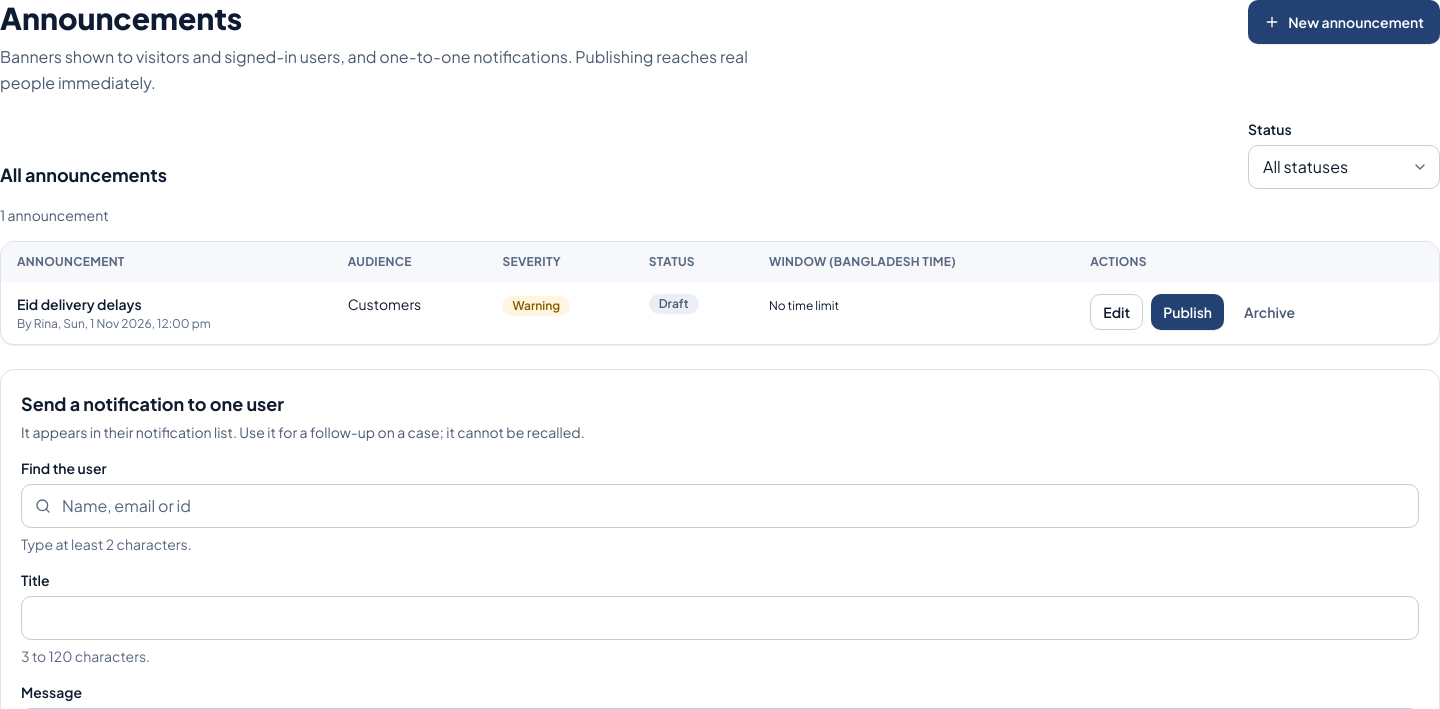
it: admin announcements › keeps the publish dialog open and shows the server message on failure
This screenshot has width=1440, height=709.
Click the button with aria-label "Publish Eid delivery delays" at point(1188, 312), box [1151,294,1224,330]
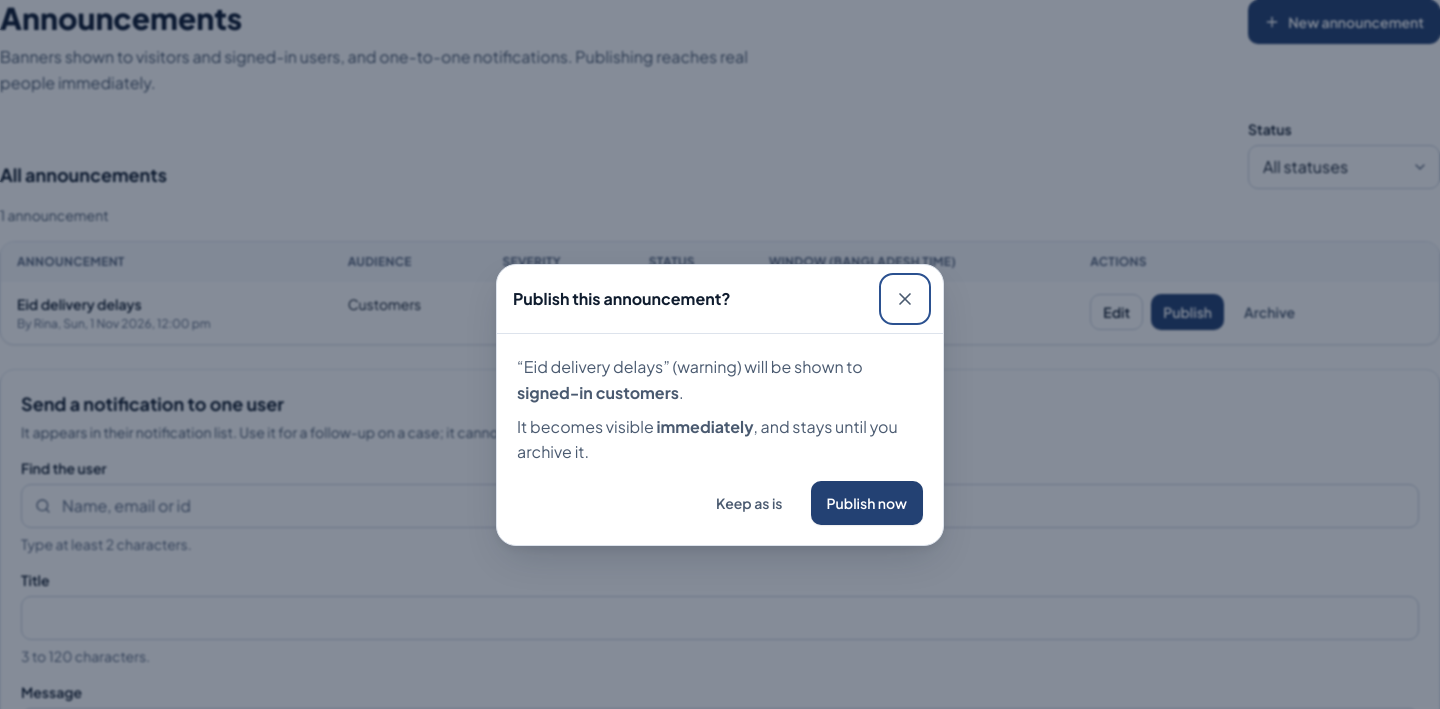
Click the button "Publish now" at point(867, 503), box [810,481,923,525]
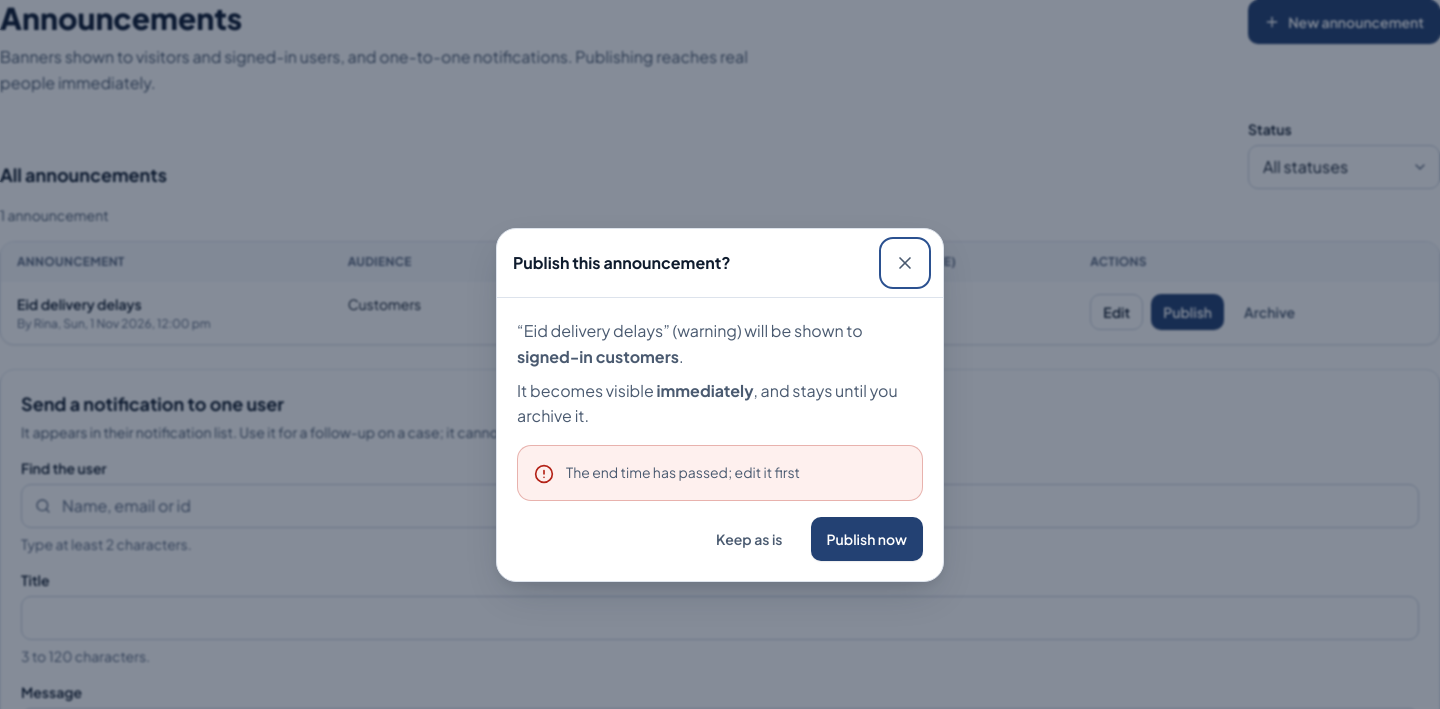
Check: the dialog is shown, box [496,228,944,582]
Check: the text "The end time has passed; edit it first" is shown, box [566,462,800,482]
